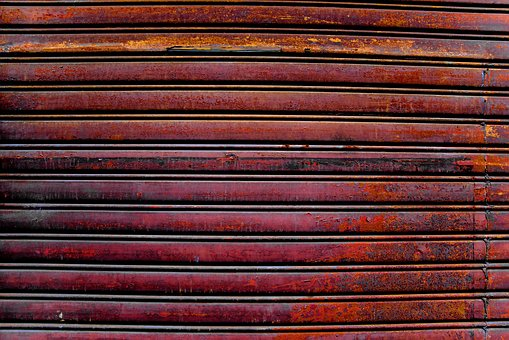rust: (281, 180, 495, 336), (3, 7, 496, 63), (388, 124, 508, 174)
